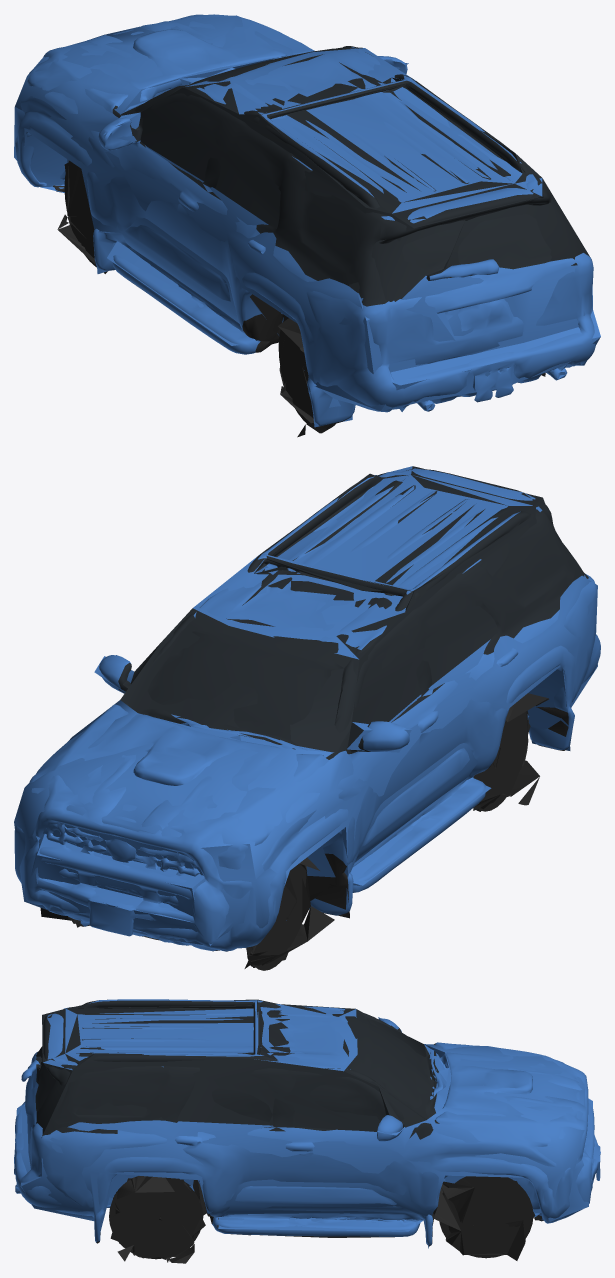
The model's file is toyota-4runner.glb.
The picture shows the model from 3 angles, top to bottom: view 1: azimuth 30°, elevation 25°; view 2: azimuth 150°, elevation 25°; view 3: azimuth 270°, elevation 25°; orthographic projection. The views are drawn at different scales.
Visible parts, largest first — view 1: body, far; view 2: body, far; view 3: body, far.
Part boxes in pixels (<box>): body: <box>15,14,595,437</box>; far: <box>14,15,600,427</box>; body: <box>14,468,600,970</box>; far: <box>14,466,597,968</box>; body: <box>14,999,600,1263</box>; far: <box>15,999,600,1262</box>.
Size of the model in its own units: 2.31 by 1.91 by 5.03.
